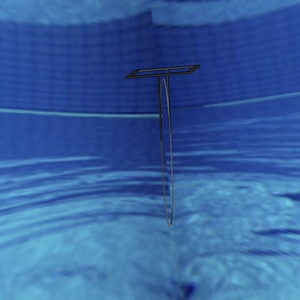circle: (125, 63, 203, 228)
